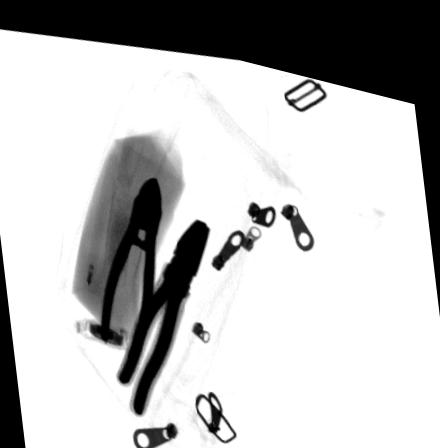Pliers: (114, 208, 210, 411), (99, 168, 162, 348)
